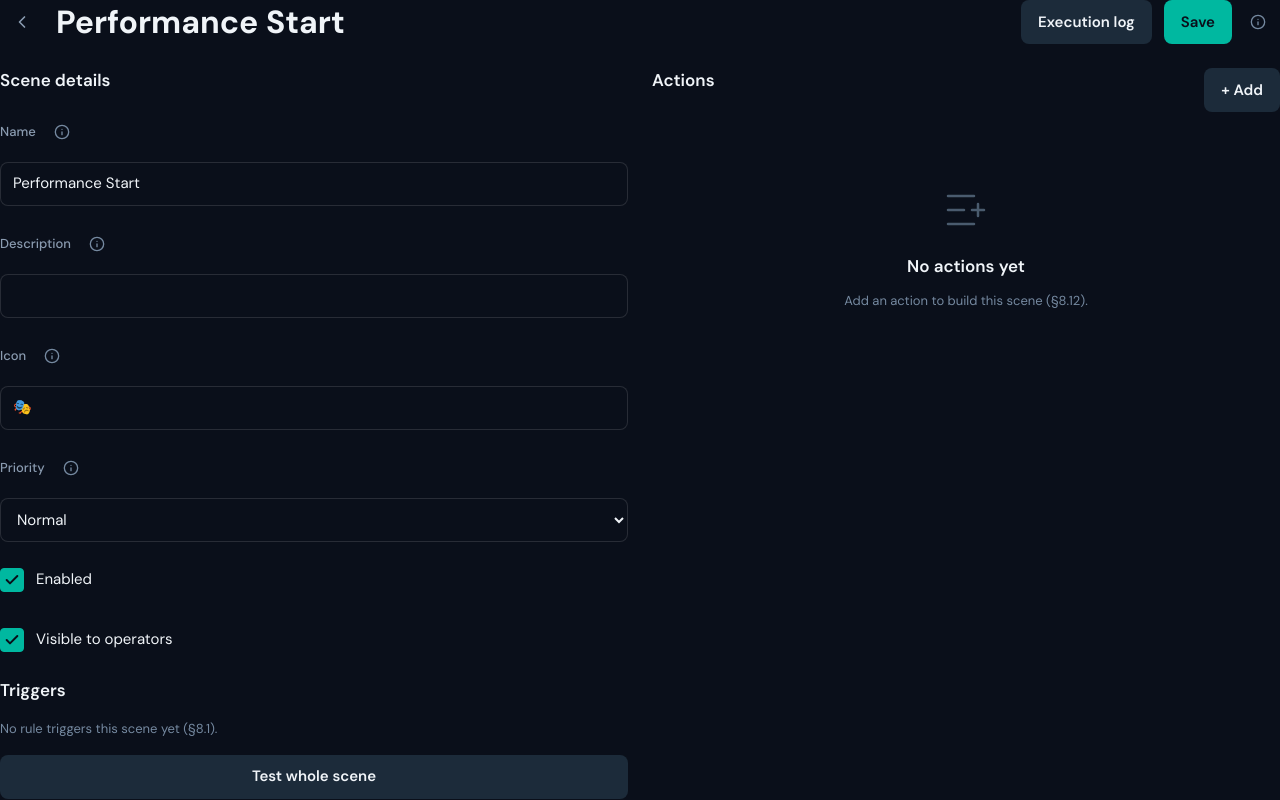
Test: SceneEditor — unsaved-changes guard › Stay closes the guard and keeps the edit
Replace the text in the field labelled "Name" with "Performance Start (edited)" at [314, 184], box [0,162,628,206]
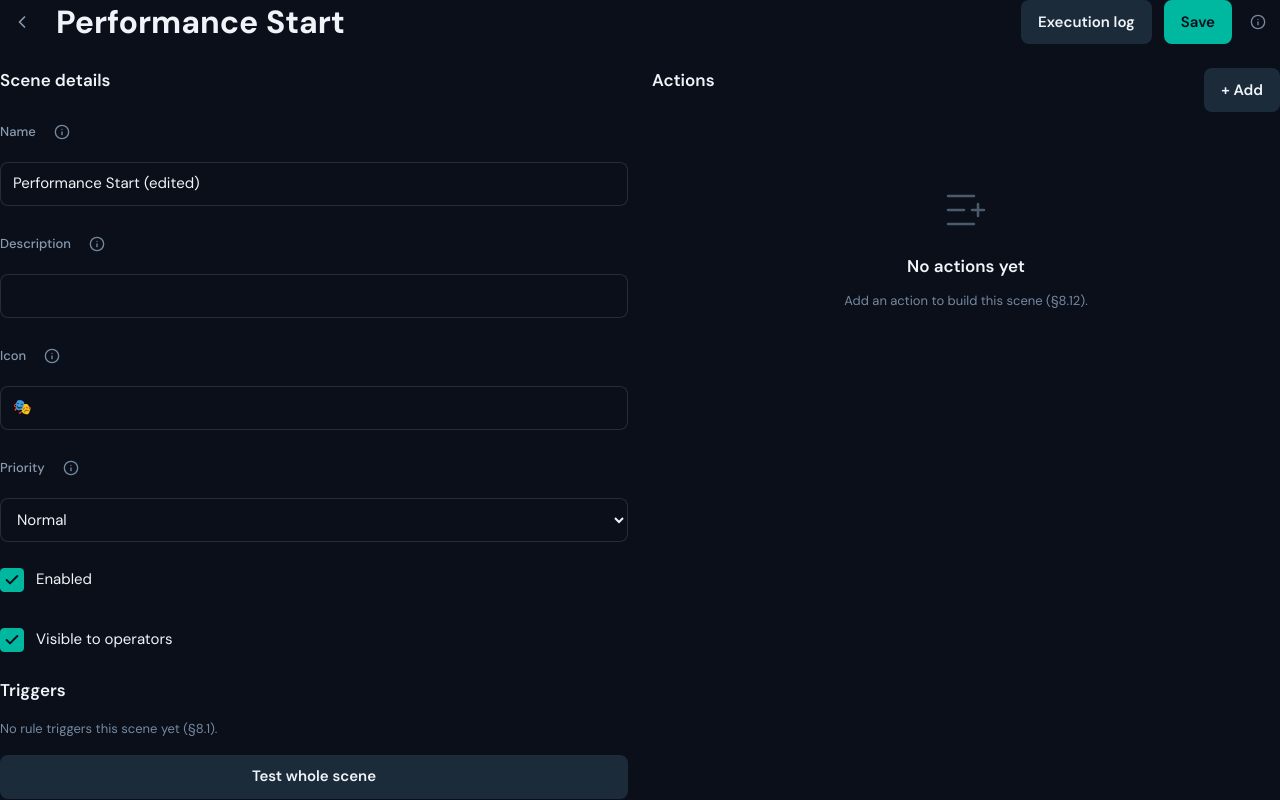
Click the button named "Back to scenes" at [22, 22], box [0,0,44,44]
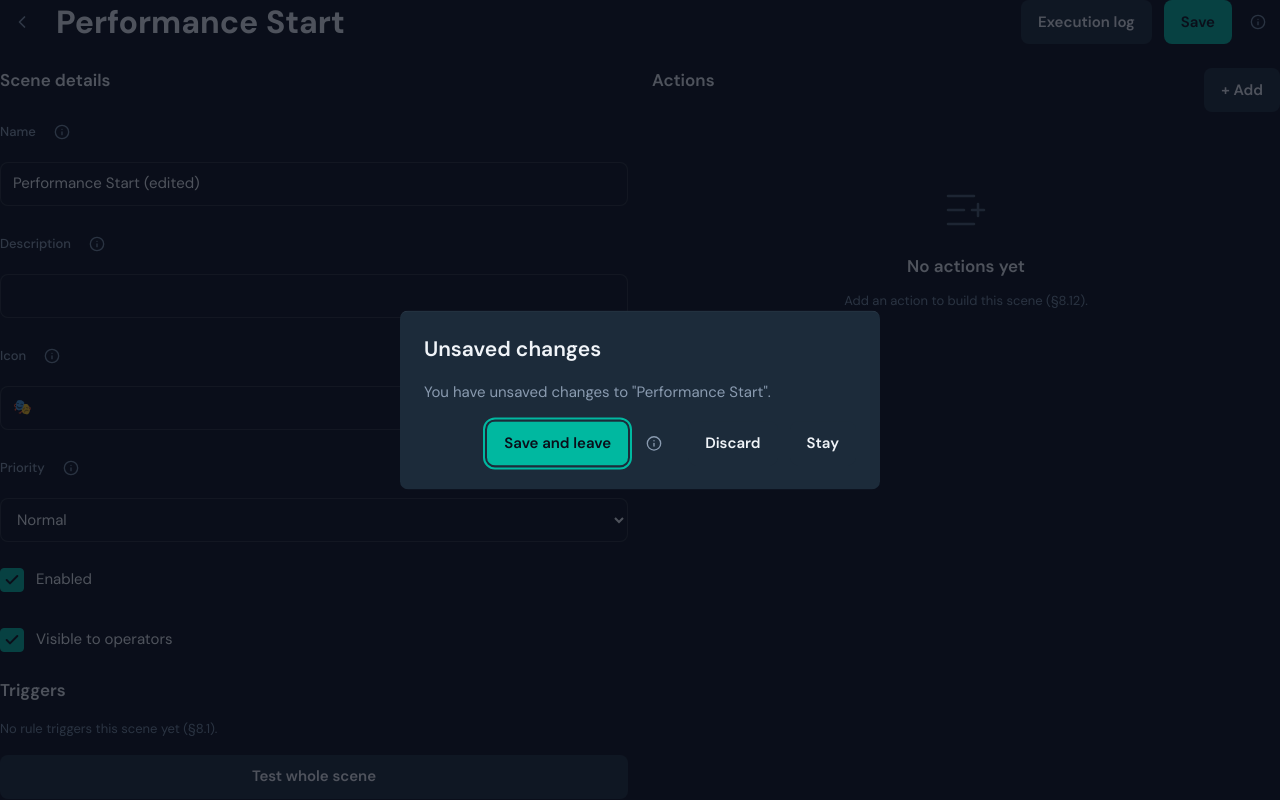
Click the button "Stay" at [823, 444], box [790,422,856,466]
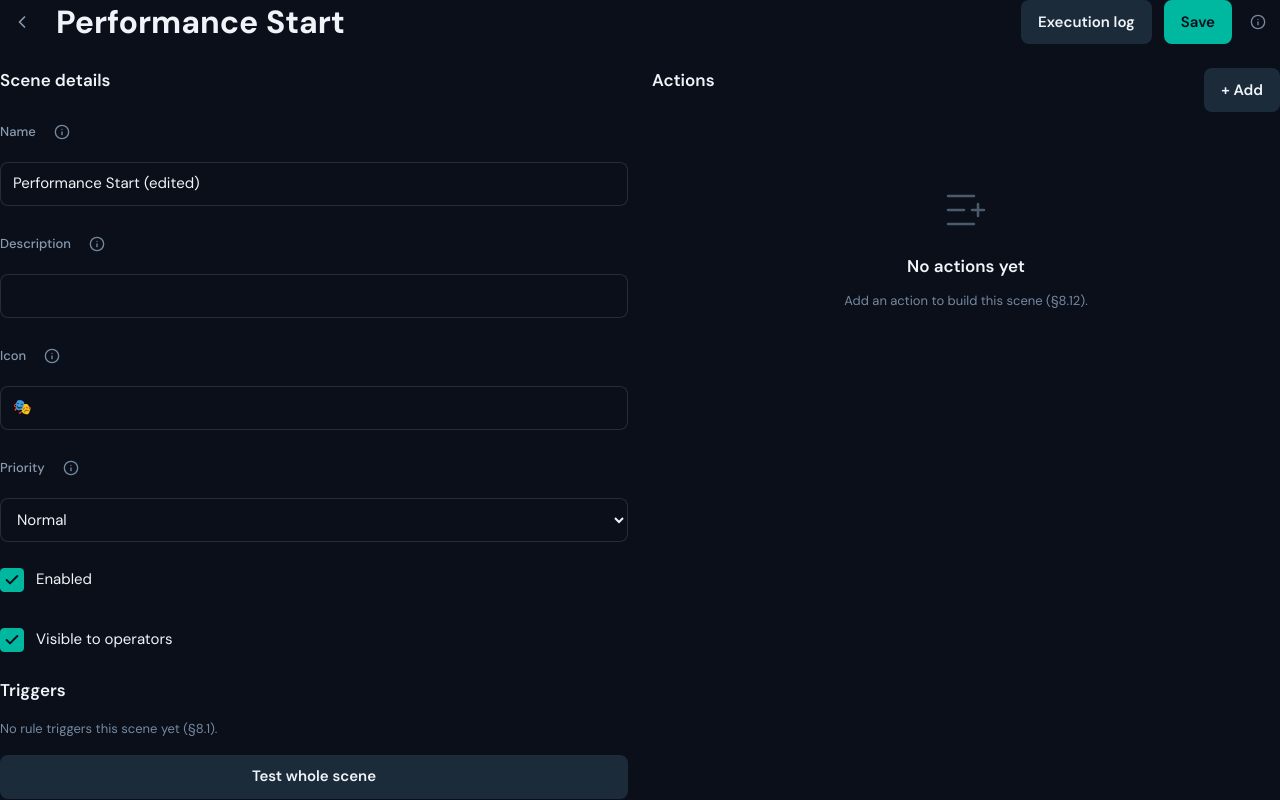
Check: the heading "Unsaved changes" is gone
